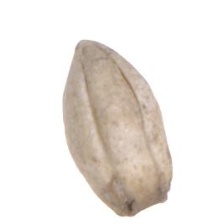L1: (117, 193, 172, 217), (69, 39, 117, 58)
L2: (62, 41, 173, 217)
